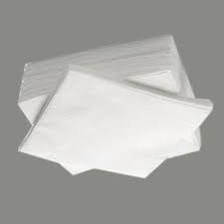tissue: (10, 29, 219, 188)
